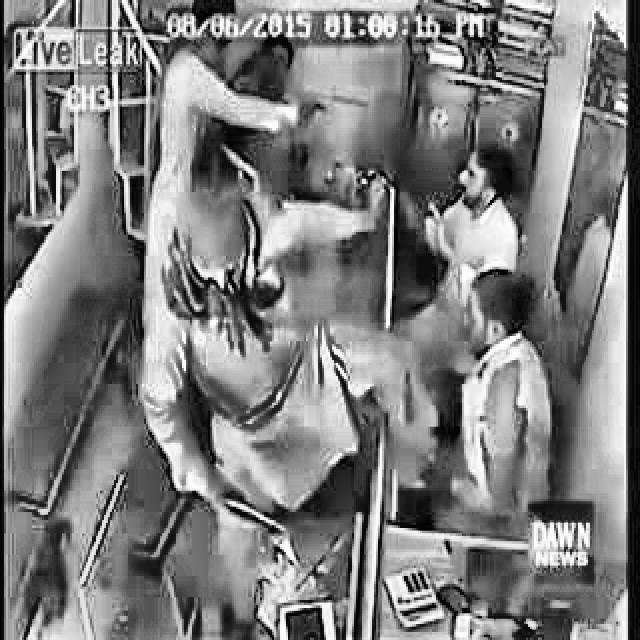robbery: (140, 5, 331, 541), (394, 142, 525, 268)
